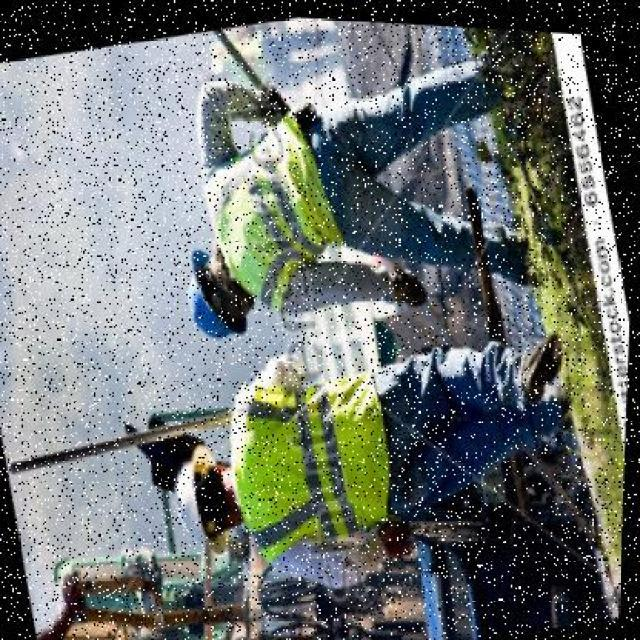helmet: (165, 431, 243, 565), (174, 234, 258, 350)
vest: (211, 365, 411, 561), (192, 125, 344, 292)
